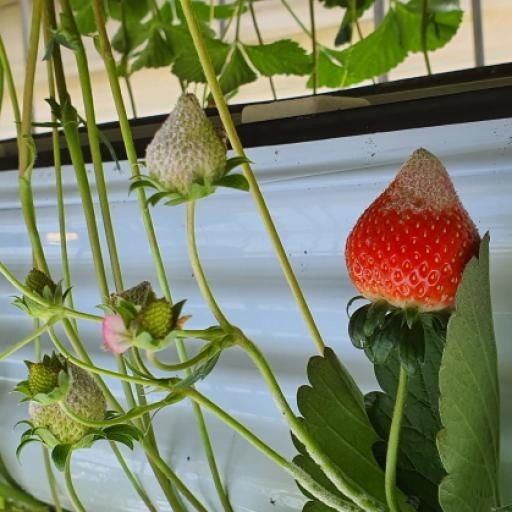Powdery Mildew Fruit: (378, 274, 483, 363), (148, 315, 227, 417), (31, 68, 108, 154)
